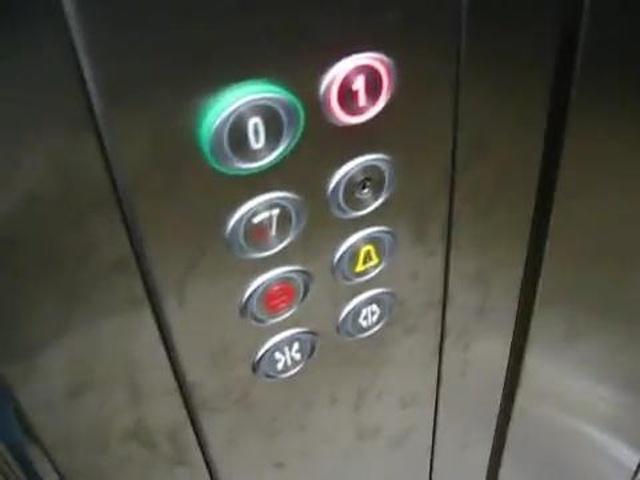0: (193, 76, 305, 175)
1: (316, 48, 400, 126)
alarm: (327, 224, 399, 287)
blur: (236, 264, 315, 326)
close: (249, 326, 323, 381)
keyhole: (326, 153, 397, 220)
open: (332, 286, 401, 341)
unknown: (219, 186, 309, 257)
